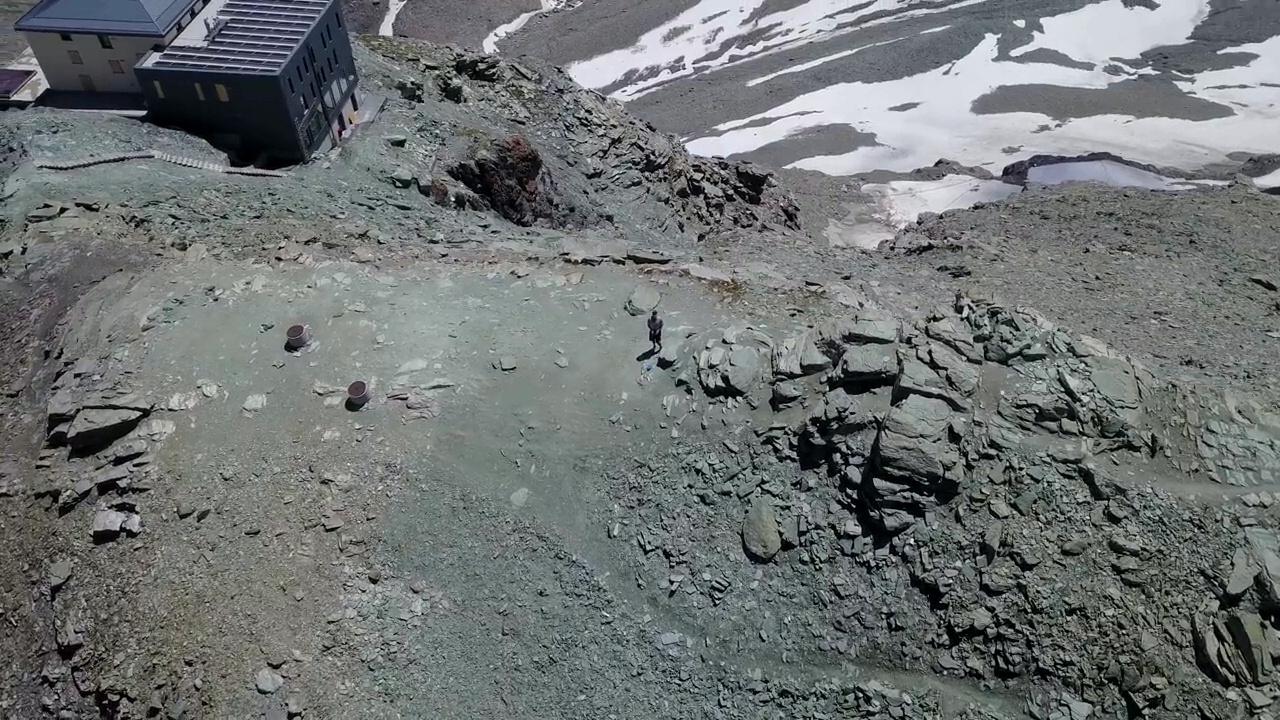insan: (644, 308, 669, 355)
